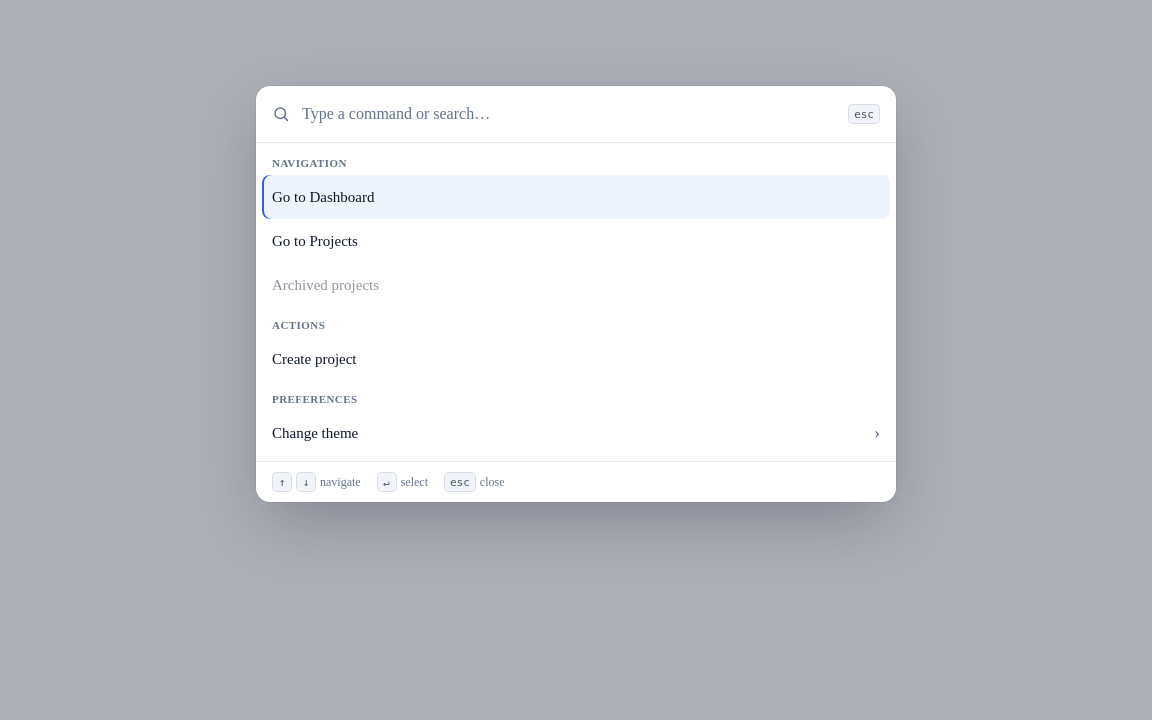
Test: search › finds items inside nested pages and shows the breadcrumb as a group
Type "dark" into the dropdown with placeholder "Type a command or search…". click: (569, 114)
box: [300,86,838,142]
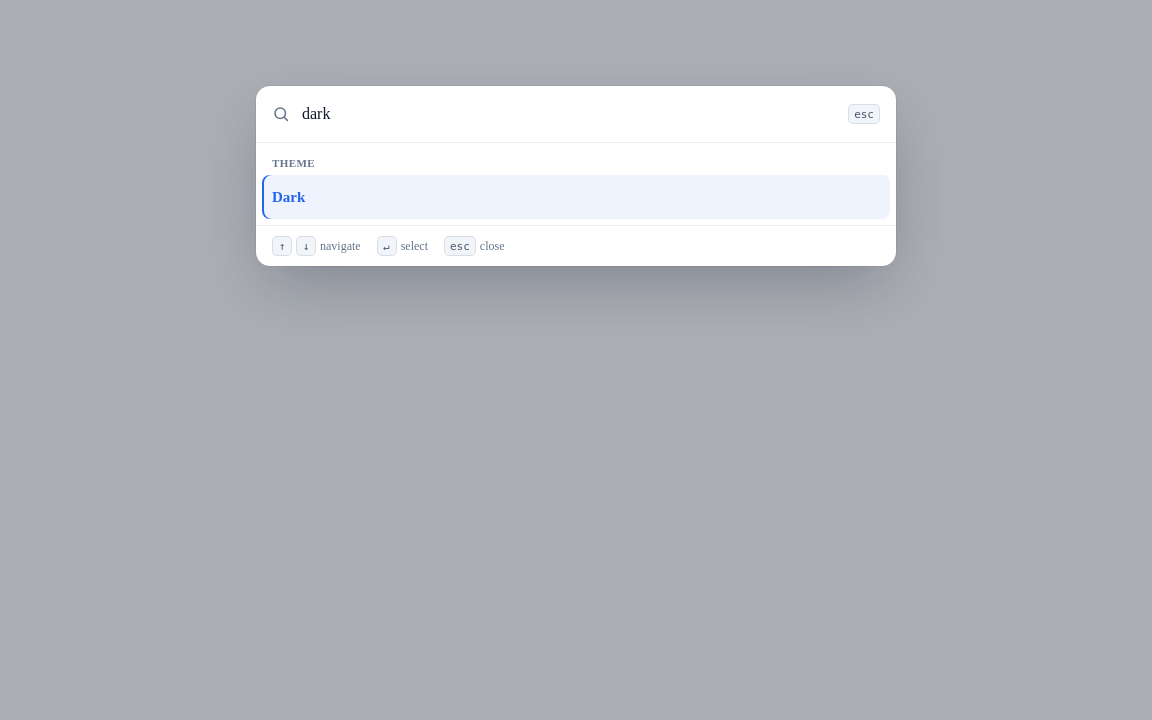
Expected: the text "Theme" is shown, [272,157,315,169]
Result: the text "Dark" is shown at [272,189,305,205]
